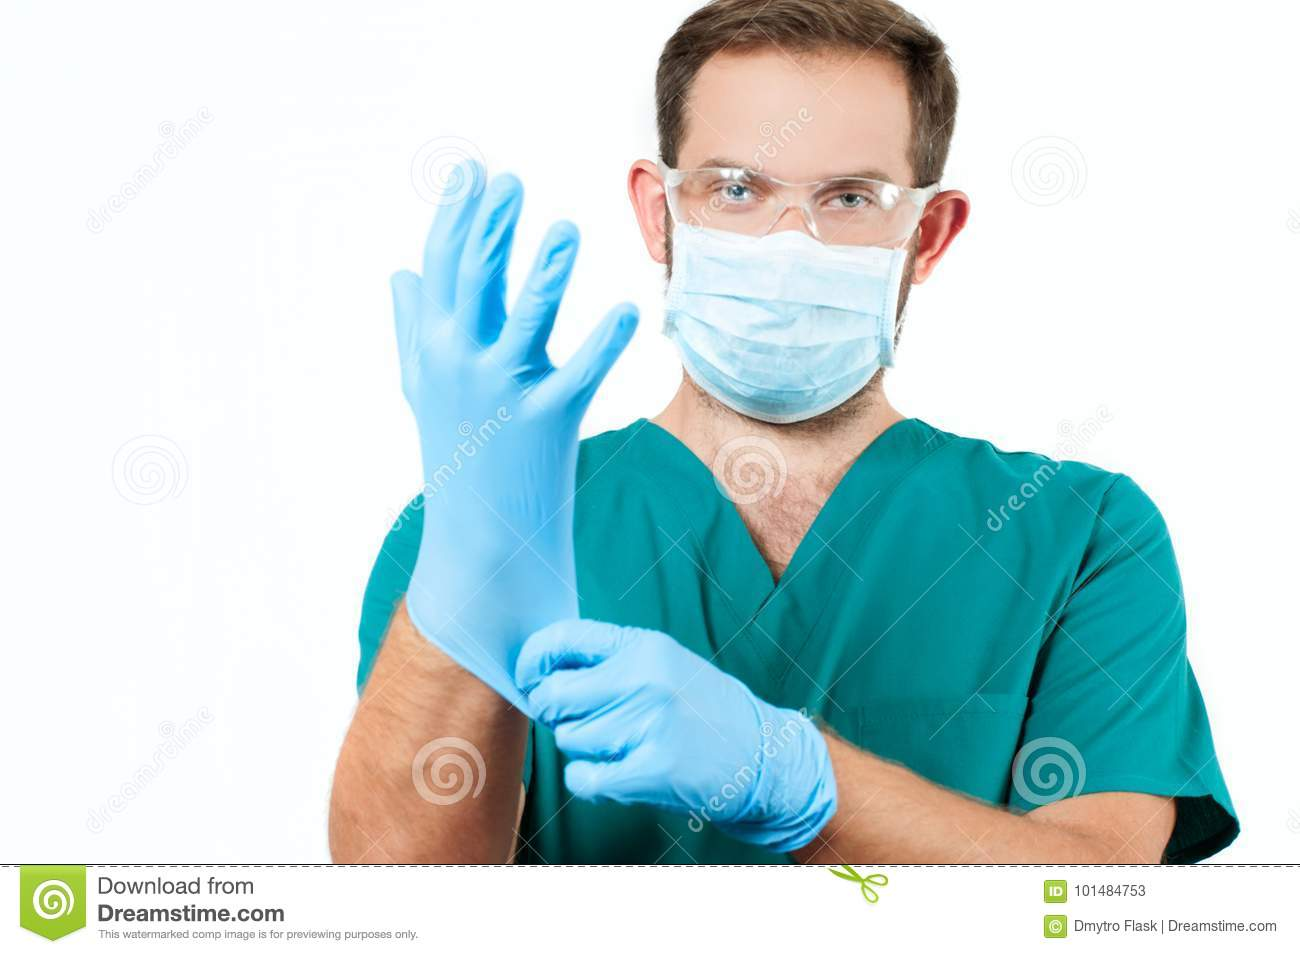mask: (666, 218, 911, 421)
